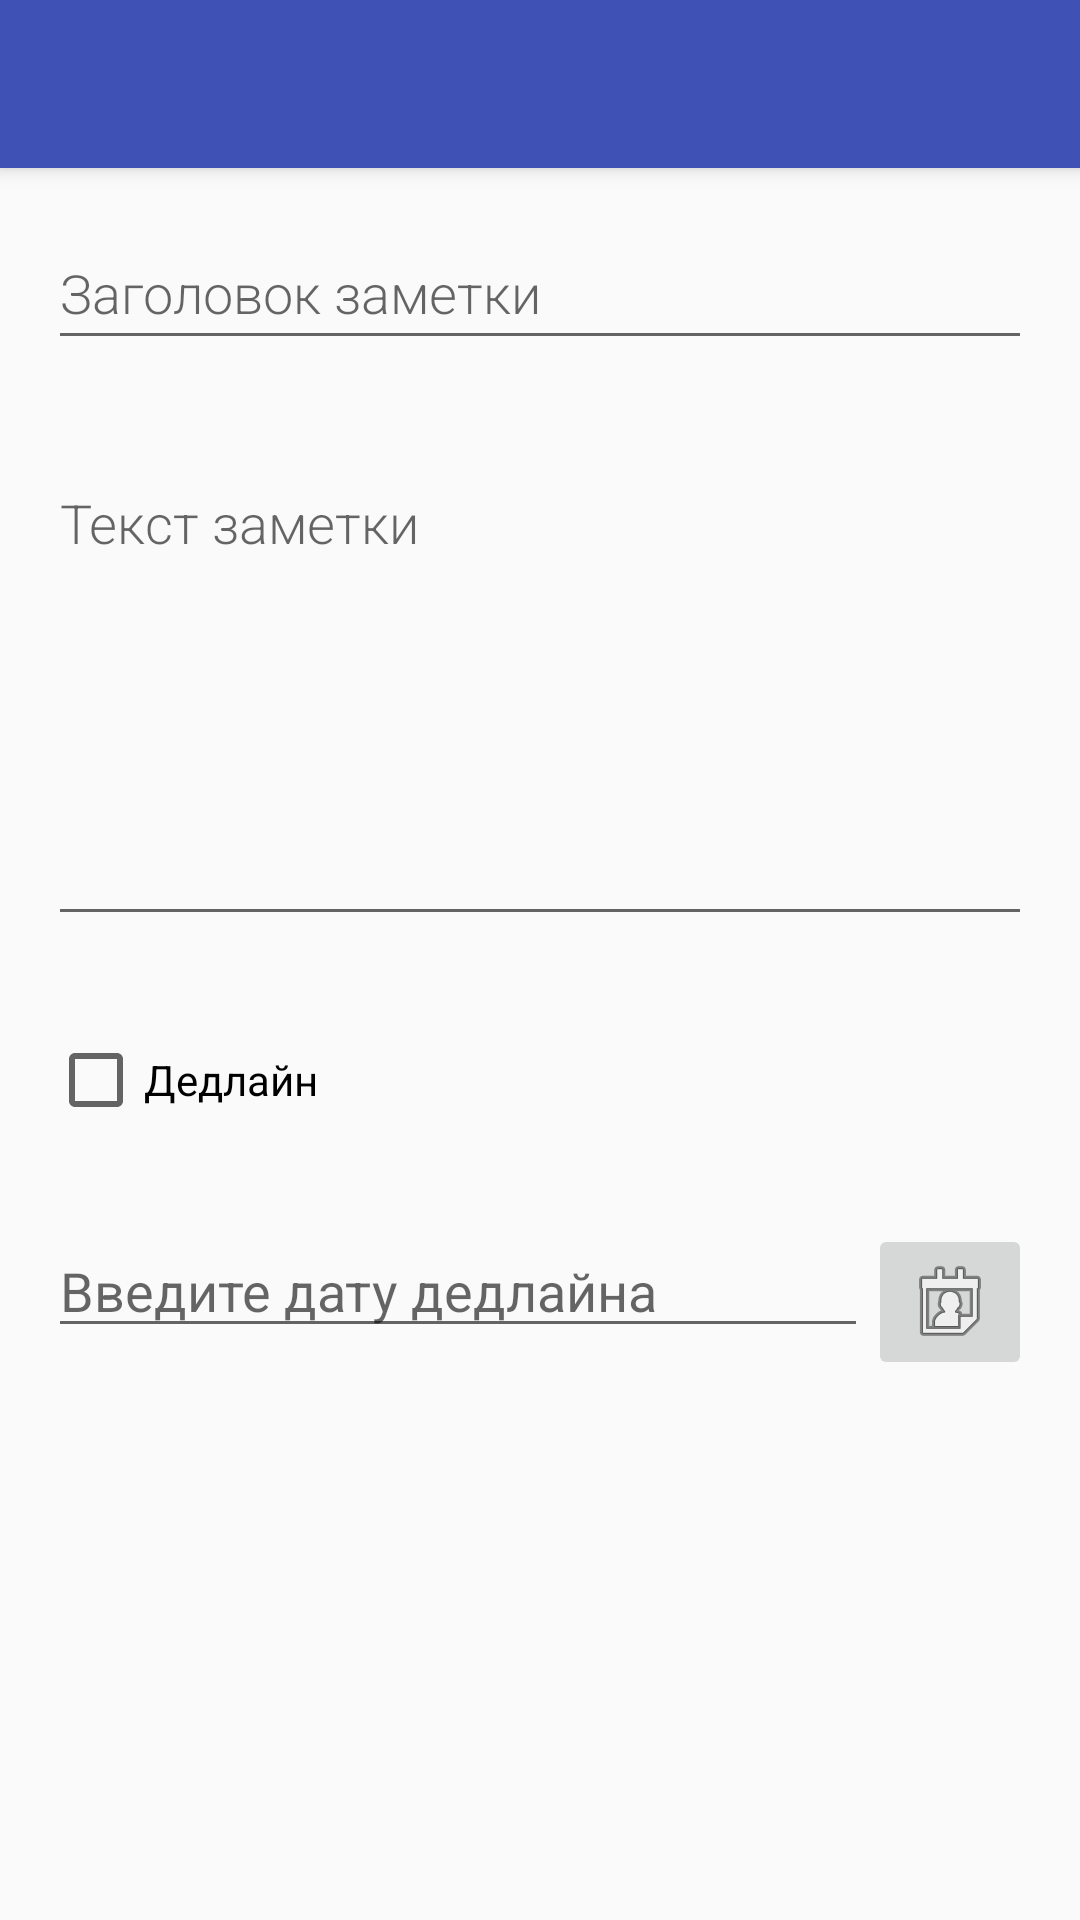

Screen size 1080×1920. Icon name, then its box in pixels as (x1, y1, x2, y2):
calendar: (880, 1242, 1020, 1362)
